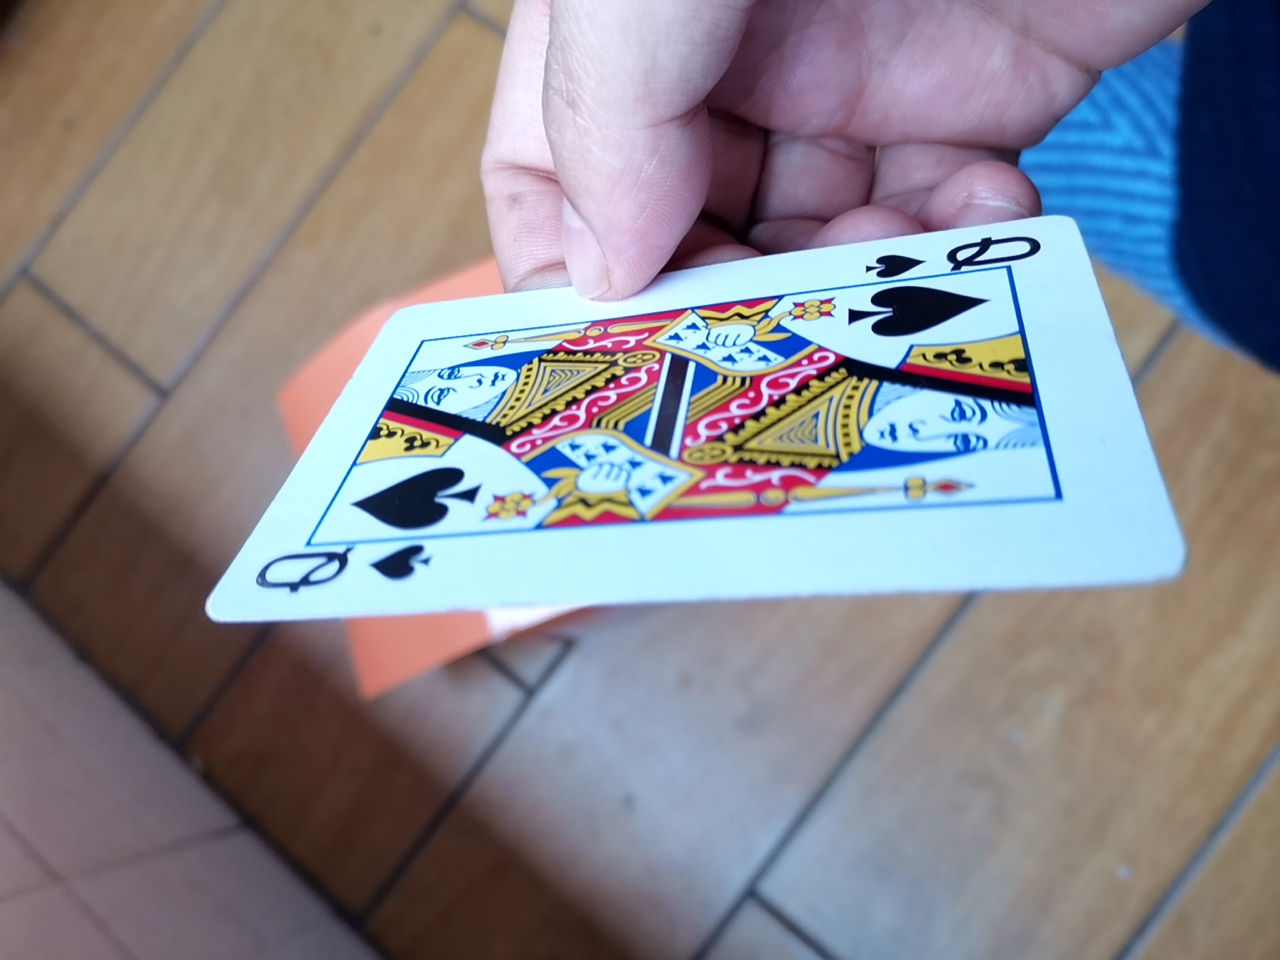ht q: (190, 201, 1172, 662)
